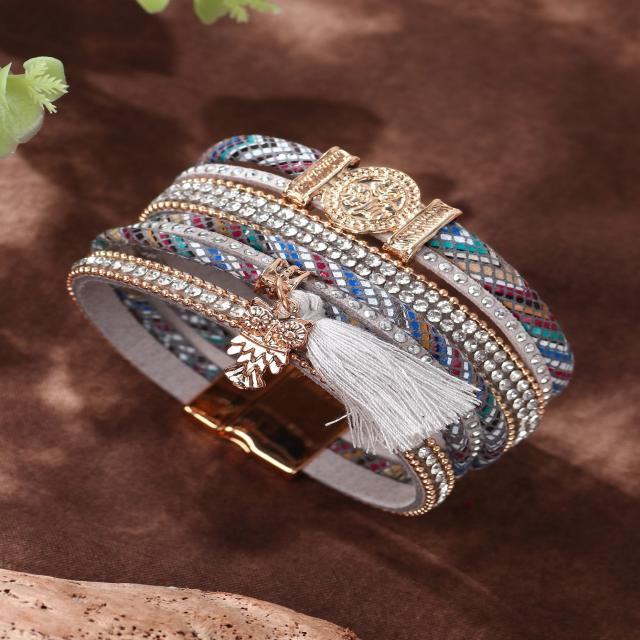bracelet: (59, 76, 640, 596)
